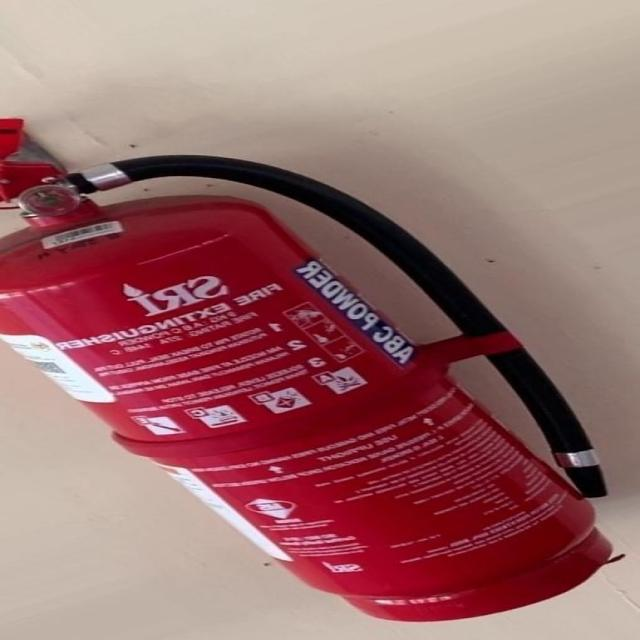fire_extinguisher: (0, 111, 616, 626)
